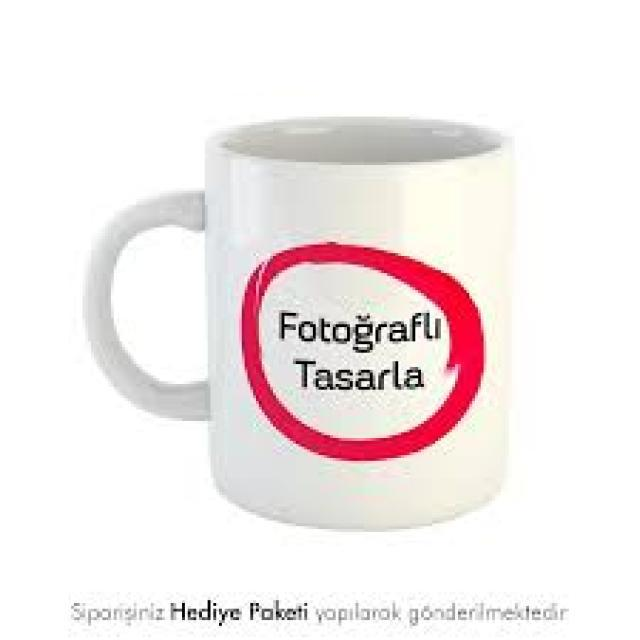taza: (81, 115, 518, 528)
